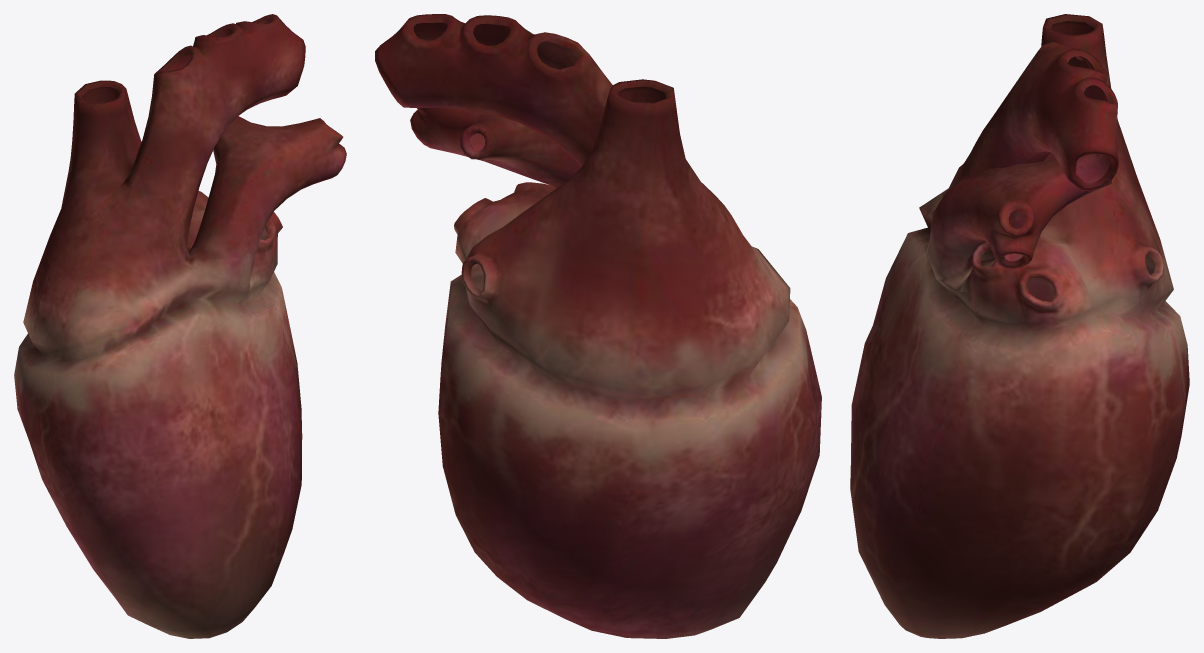
The model's file is healthyHeart.glb.
The picture shows the model from 3 angles, left to right: view 1: azimuth 30°, elevation 25°; view 2: azimuth 150°, elevation 25°; view 3: azimuth 270°, elevation 25°; orthographic projection. The views are drawn at different scales.
Parts seen in each view (by area): view 1: HealthyHeartModel; view 2: HealthyHeartModel; view 3: HealthyHeartModel.
Boxes of the visible parts, box(x1,y1,x2,y2) form: HealthyHeartModel: box(14, 14, 346, 638); HealthyHeartModel: box(375, 14, 821, 638); HealthyHeartModel: box(850, 14, 1189, 638).
Size of the model in its own units: 0.1681 by 0.2747 by 0.1374.
Materials: 1 (1 with a texture image).
